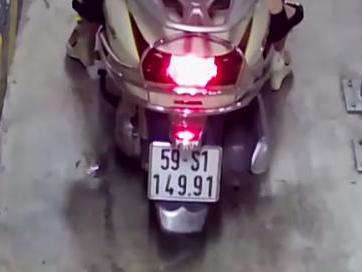num_plate: (146, 140, 223, 205)
